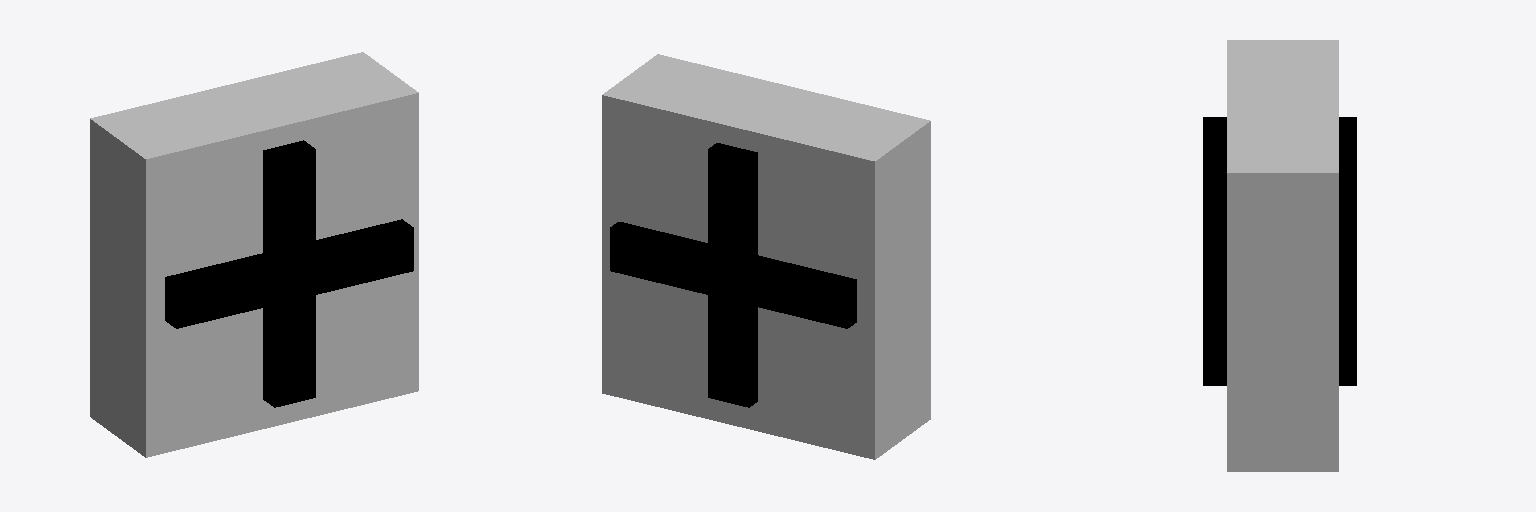
Rendered from pluse.obj.
3 views of the same model, side by side, from view 1: azimuth 30°, elevation 25°; view 2: azimuth 150°, elevation 25°; view 3: azimuth 270°, elevation 25° (orthographic).
Visible parts, largest first — view 1: Cube_Cube.001, Text; view 2: Cube_Cube.001, Text; view 3: Cube_Cube.001, Text.
Boxes of the visible parts, <box> form: Cube_Cube.001: <box>90,52,418,457</box>; Text: <box>165,140,413,407</box>; Cube_Cube.001: <box>602,54,930,459</box>; Text: <box>610,143,856,407</box>; Cube_Cube.001: <box>1227,40,1338,471</box>; Text: <box>1203,117,1356,385</box>.
Size of the model in its own units: 0.5426 by 0.5662 by 0.264.